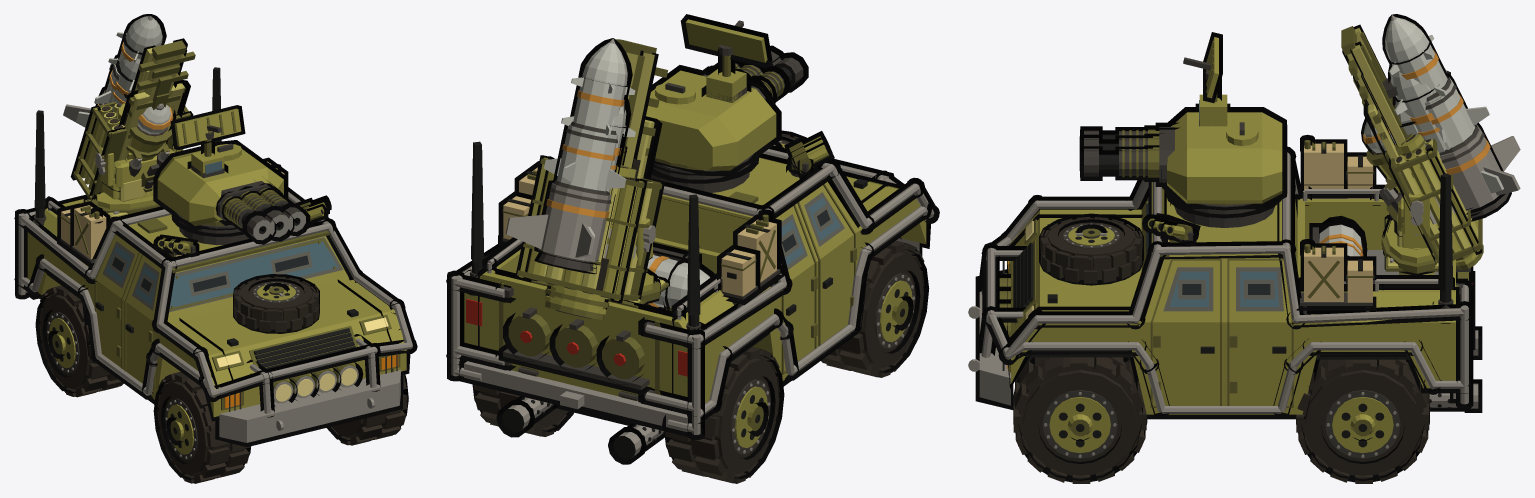
The model's file is jackal_armored_b.glb.
The picture shows the model from 3 angles, left to right: view 1: azimuth 30°, elevation 25°; view 2: azimuth 150°, elevation 25°; view 3: azimuth 270°, elevation 25°; orthographic projection. The views are drawn at different scales.
Parts seen in each view (by area): view 1: Armored_Hull, Armored_UpHull, Armored_Wheel_R1, Armored_Turret, Armored_Wheel_R2, Armored_Glass, Armored_Spare, Armored_UpTwin, Armored_UpArmor, Armored_UpRadarDish, Armored_Wheel_L1, Armored_Gun (+14 smaller); view 2: Armored_Hull, Armored_UpHull, Armored_Turret, Armored_Wheel_R2, Armored_Wheel_R1, Armored_StageMissile1, Armored_UpNitro, Armored_UpRadarDish, Armored_StageMissile2, Armored_UpMines, Armored_StageMissile3, Armored_UpTwin (+26 smaller); view 3: Armored_Hull, Armored_UpHull, Armored_Wheel_L1, Armored_Wheel_L2, Armored_Turret, Armored_Spare, Armored_UpTwin, Armored_Glass, Armored_StageMissile1, Armored_StageMissile3Nose, Armored_StageMissile2, Armored_Gun (+19 smaller).
Part boxes in pixels (box(x1,y1,x2,y2)): Armored_Hull: box(24, 157, 410, 446); Armored_UpHull: box(14, 187, 417, 417); Armored_Wheel_R1: box(153, 371, 251, 483); Armored_Turret: box(153, 140, 288, 230); Armored_Wheel_R2: box(35, 285, 123, 397); Armored_Glass: box(102, 237, 343, 312); Armored_Spare: box(233, 274, 319, 333); Armored_UpTwin: box(215, 180, 310, 244); Armored_UpArmor: box(109, 238, 335, 310); Armored_UpRadarDish: box(170, 105, 245, 149); Armored_Wheel_L1: box(327, 374, 408, 445); Armored_Gun: box(231, 183, 294, 241); Armored_Hull: box(459, 145, 930, 436); Armored_UpHull: box(446, 145, 939, 439); Armored_Turret: box(646, 65, 781, 176); Armored_Wheel_R2: box(664, 347, 784, 483); Armored_Wheel_R1: box(821, 240, 929, 377); Armored_StageMissile1: box(534, 180, 615, 264); Armored_UpNitro: box(496, 396, 664, 464); Armored_UpRadarDish: box(680, 14, 772, 67); Armored_StageMissile2: box(552, 125, 623, 195); Armored_UpMines: box(498, 307, 651, 394); Armored_StageMissile3: box(570, 72, 630, 129); Armored_UpTwin: box(697, 52, 808, 103); Armored_Hull: box(968, 134, 1478, 419); Armored_UpHull: box(977, 146, 1473, 418); Armored_Wheel_L1: box(1013, 357, 1147, 483); Armored_Wheel_L2: box(1296, 359, 1429, 483); Armored_Turret: box(1161, 107, 1287, 210); Armored_Spare: box(1039, 213, 1143, 285); Armored_UpTwin: box(1079, 122, 1178, 186); Armored_Glass: box(1146, 198, 1283, 311); Armored_StageMissile1: box(1439, 122, 1505, 214); Armored_StageMissile3Nose: box(1382, 14, 1431, 64); Armored_StageMissile2: box(1424, 73, 1477, 148); Armored_Gun: box(1079, 127, 1179, 155).
Bounding box in the file's own units: 2.38 × 3.62 × 4.4.
